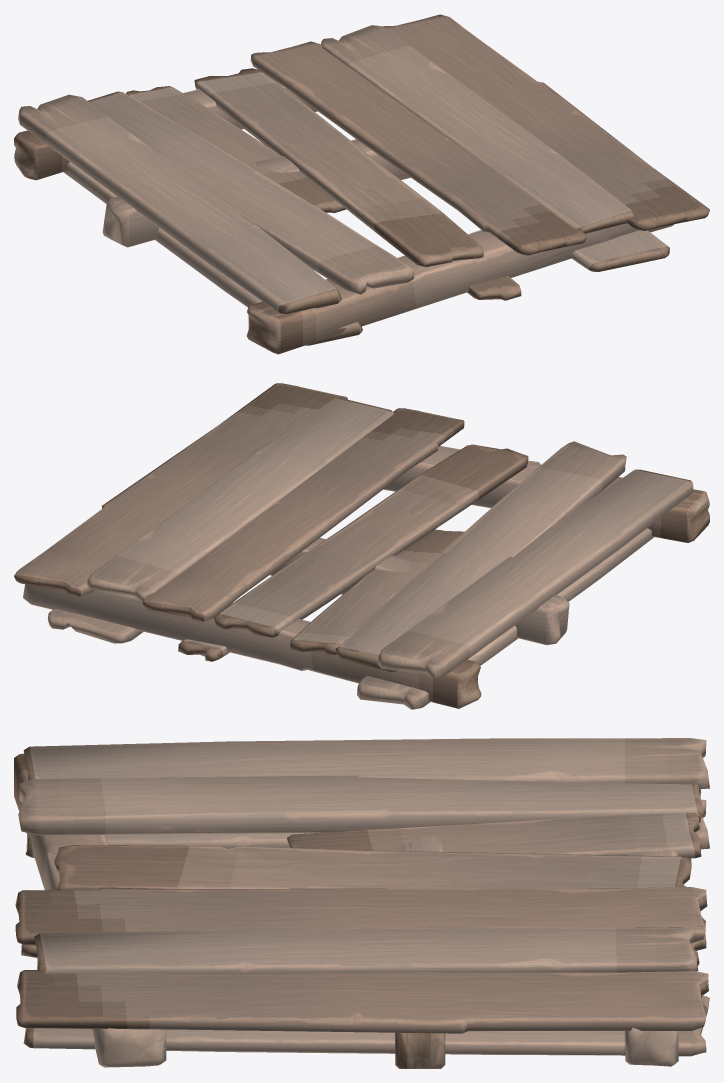
File: SM_Dock_01.fbx
3 views of the same model, one above another, from view 1: azimuth 30°, elevation 25°; view 2: azimuth 150°, elevation 25°; view 3: azimuth 270°, elevation 25° (orthographic). The views are drawn at different scales.
Visible parts, largest first — view 1: SM_Dock_01_LOD0; view 2: SM_Dock_01_LOD0; view 3: SM_Dock_01_LOD0.
Boxes of the visible parts, bbox=[...] form: SM_Dock_01_LOD0: bbox=[14, 14, 709, 354]; SM_Dock_01_LOD0: bbox=[14, 383, 709, 709]; SM_Dock_01_LOD0: bbox=[14, 738, 709, 1068].
Size of the model in its own units: 406 by 422 by 49.96.
